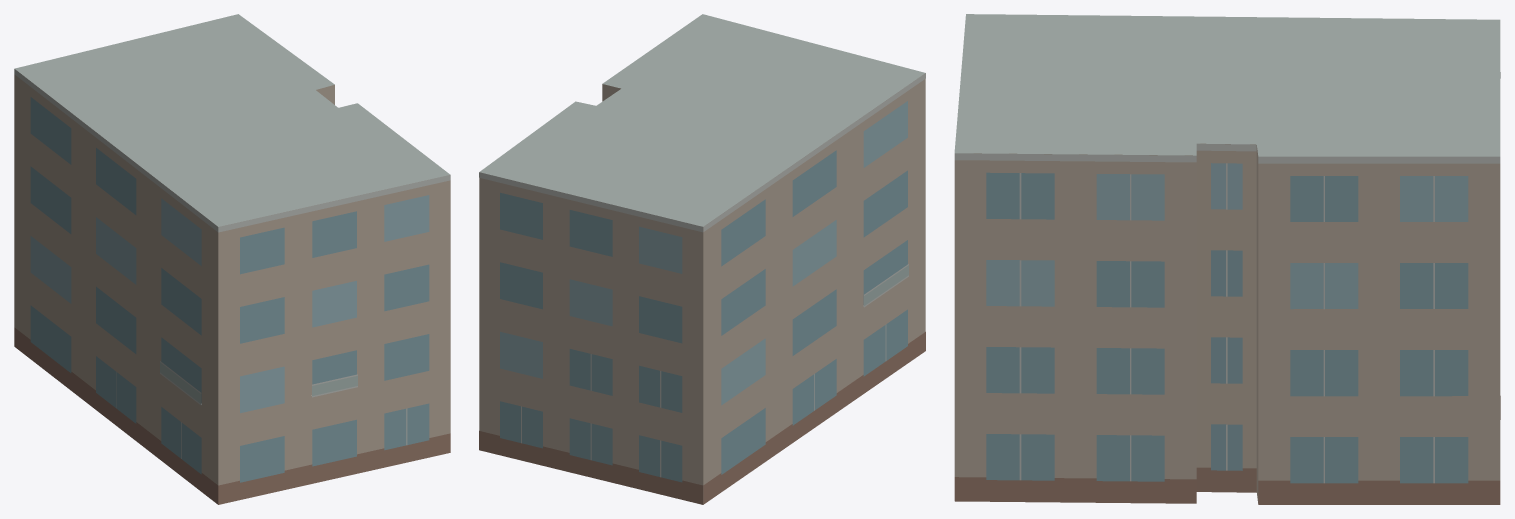
The model's file is survey-upis-32984133.glb.
The picture shows the model from 3 angles, left to right: view 1: azimuth 30°, elevation 25°; view 2: azimuth 150°, elevation 25°; view 3: azimuth 270°, elevation 25°; orthographic projection. The views are drawn at different scales.
Visible parts, largest first — view 1: survey-upis-32984133.tmp; view 2: survey-upis-32984133.tmp; view 3: survey-upis-32984133.tmp.
Part boxes in pixels (x1,y1,x2,y2): survey-upis-32984133.tmp: (14,14,450,504); survey-upis-32984133.tmp: (479,14,925,504); survey-upis-32984133.tmp: (954,14,1500,504).
Size of the model in its own units: 10.73 by 12.2 by 17.35.
